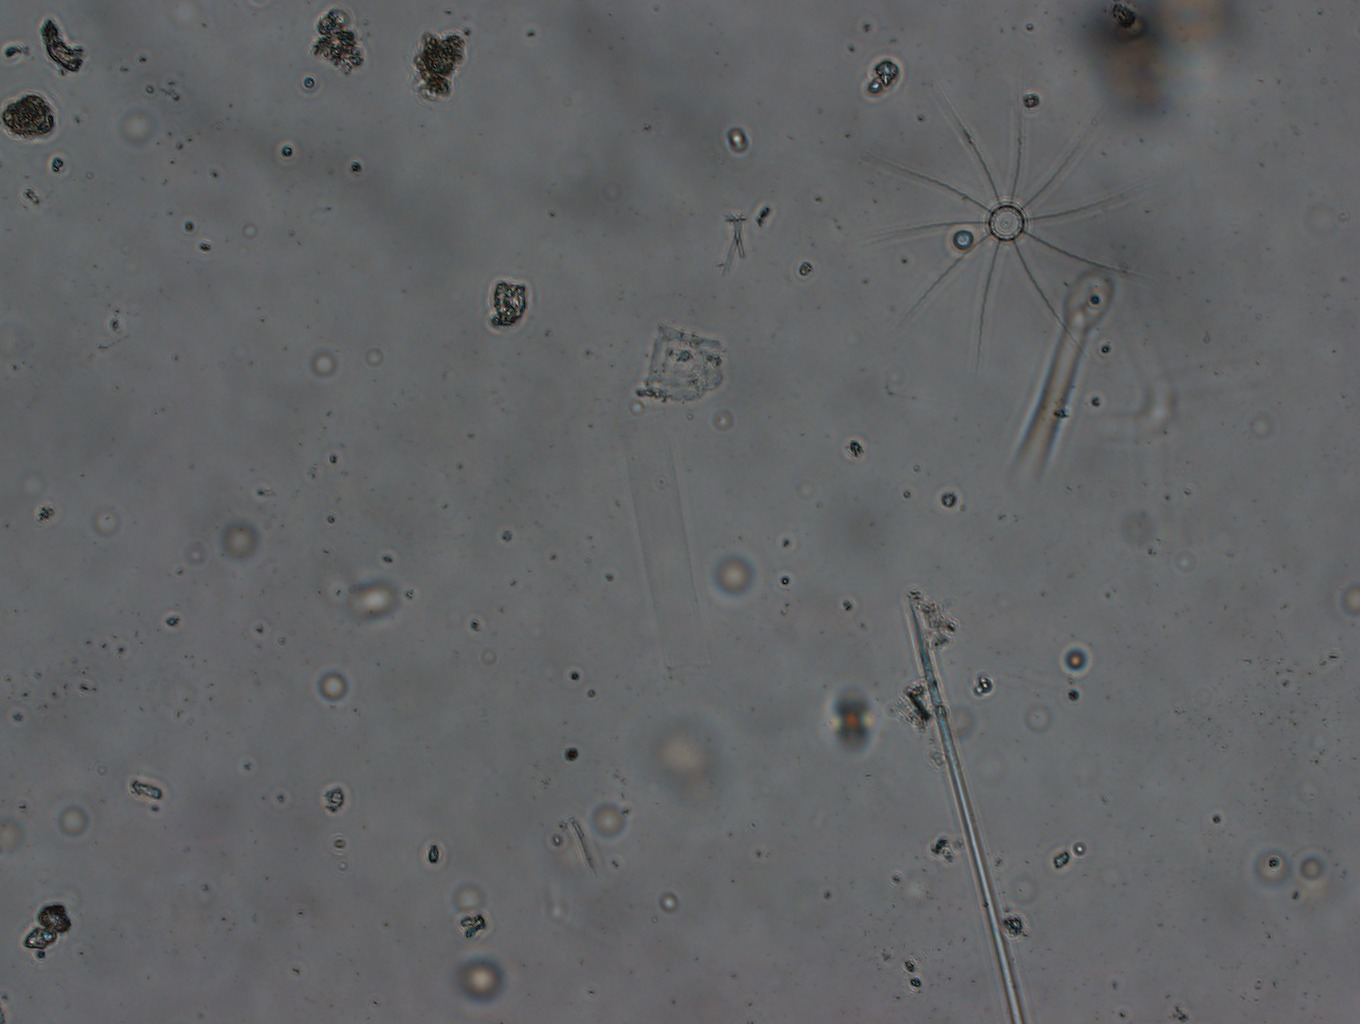bacteriastrum: (881, 116, 1139, 356)
